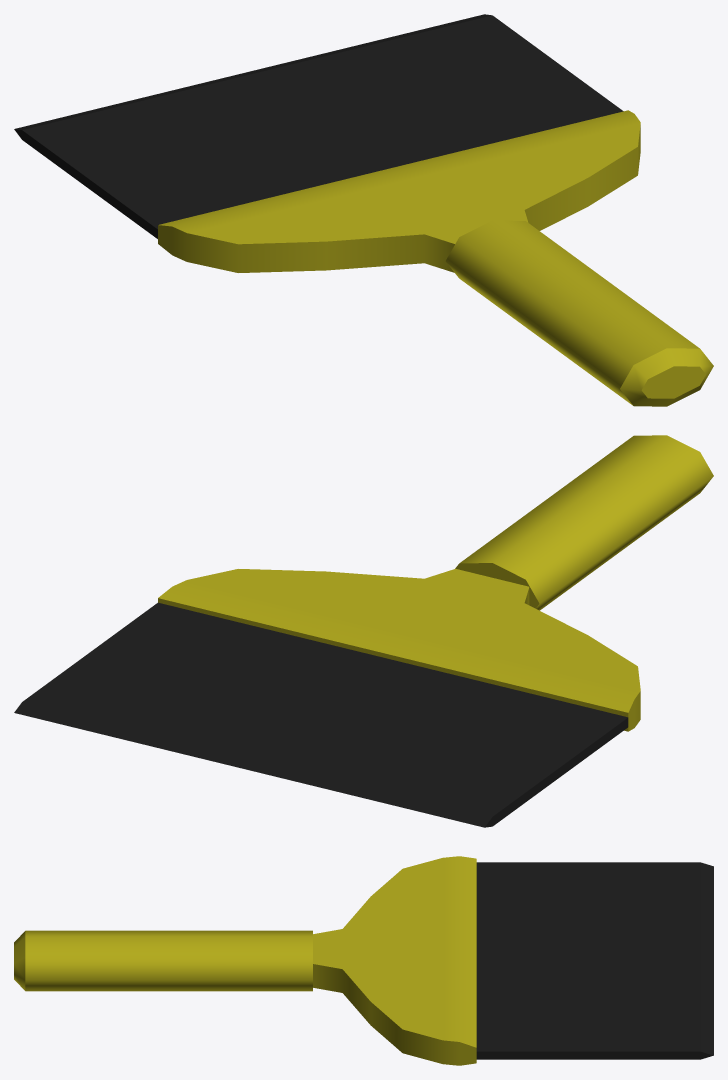
The model's file is separator_blade.fbx.
3 renders of one model, top to bottom at view 1: azimuth 30°, elevation 25°; view 2: azimuth 150°, elevation 25°; view 3: azimuth 270°, elevation 25°, orthographic. The views are drawn at different scales.
Visible parts, largest first — view 1: separator_blade; view 2: separator_blade; view 3: separator_blade.
Boxes of the visible parts, x1,y1,x2,y2 form: separator_blade: (14,14,713,406); separator_blade: (14,435,713,827); separator_blade: (14,856,713,1065).
Bounding box in the file's own units: 0.1 × 0.1564 × 0.0119.
